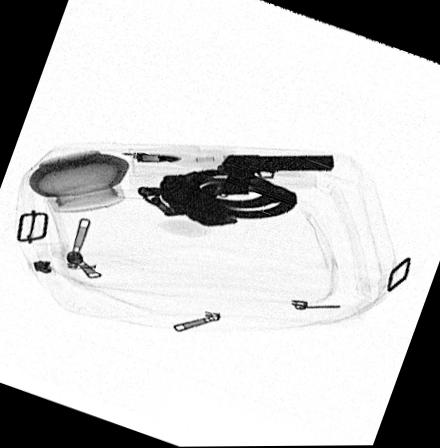Bullet: (133, 152, 181, 162)
Gun: (215, 152, 334, 196)
HandCuffs: (135, 166, 300, 226)
